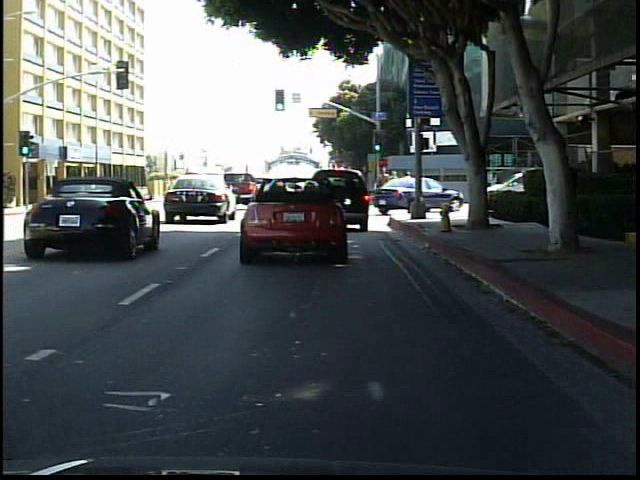person: (547, 150, 572, 241), (376, 165, 397, 211), (116, 176, 134, 203)
